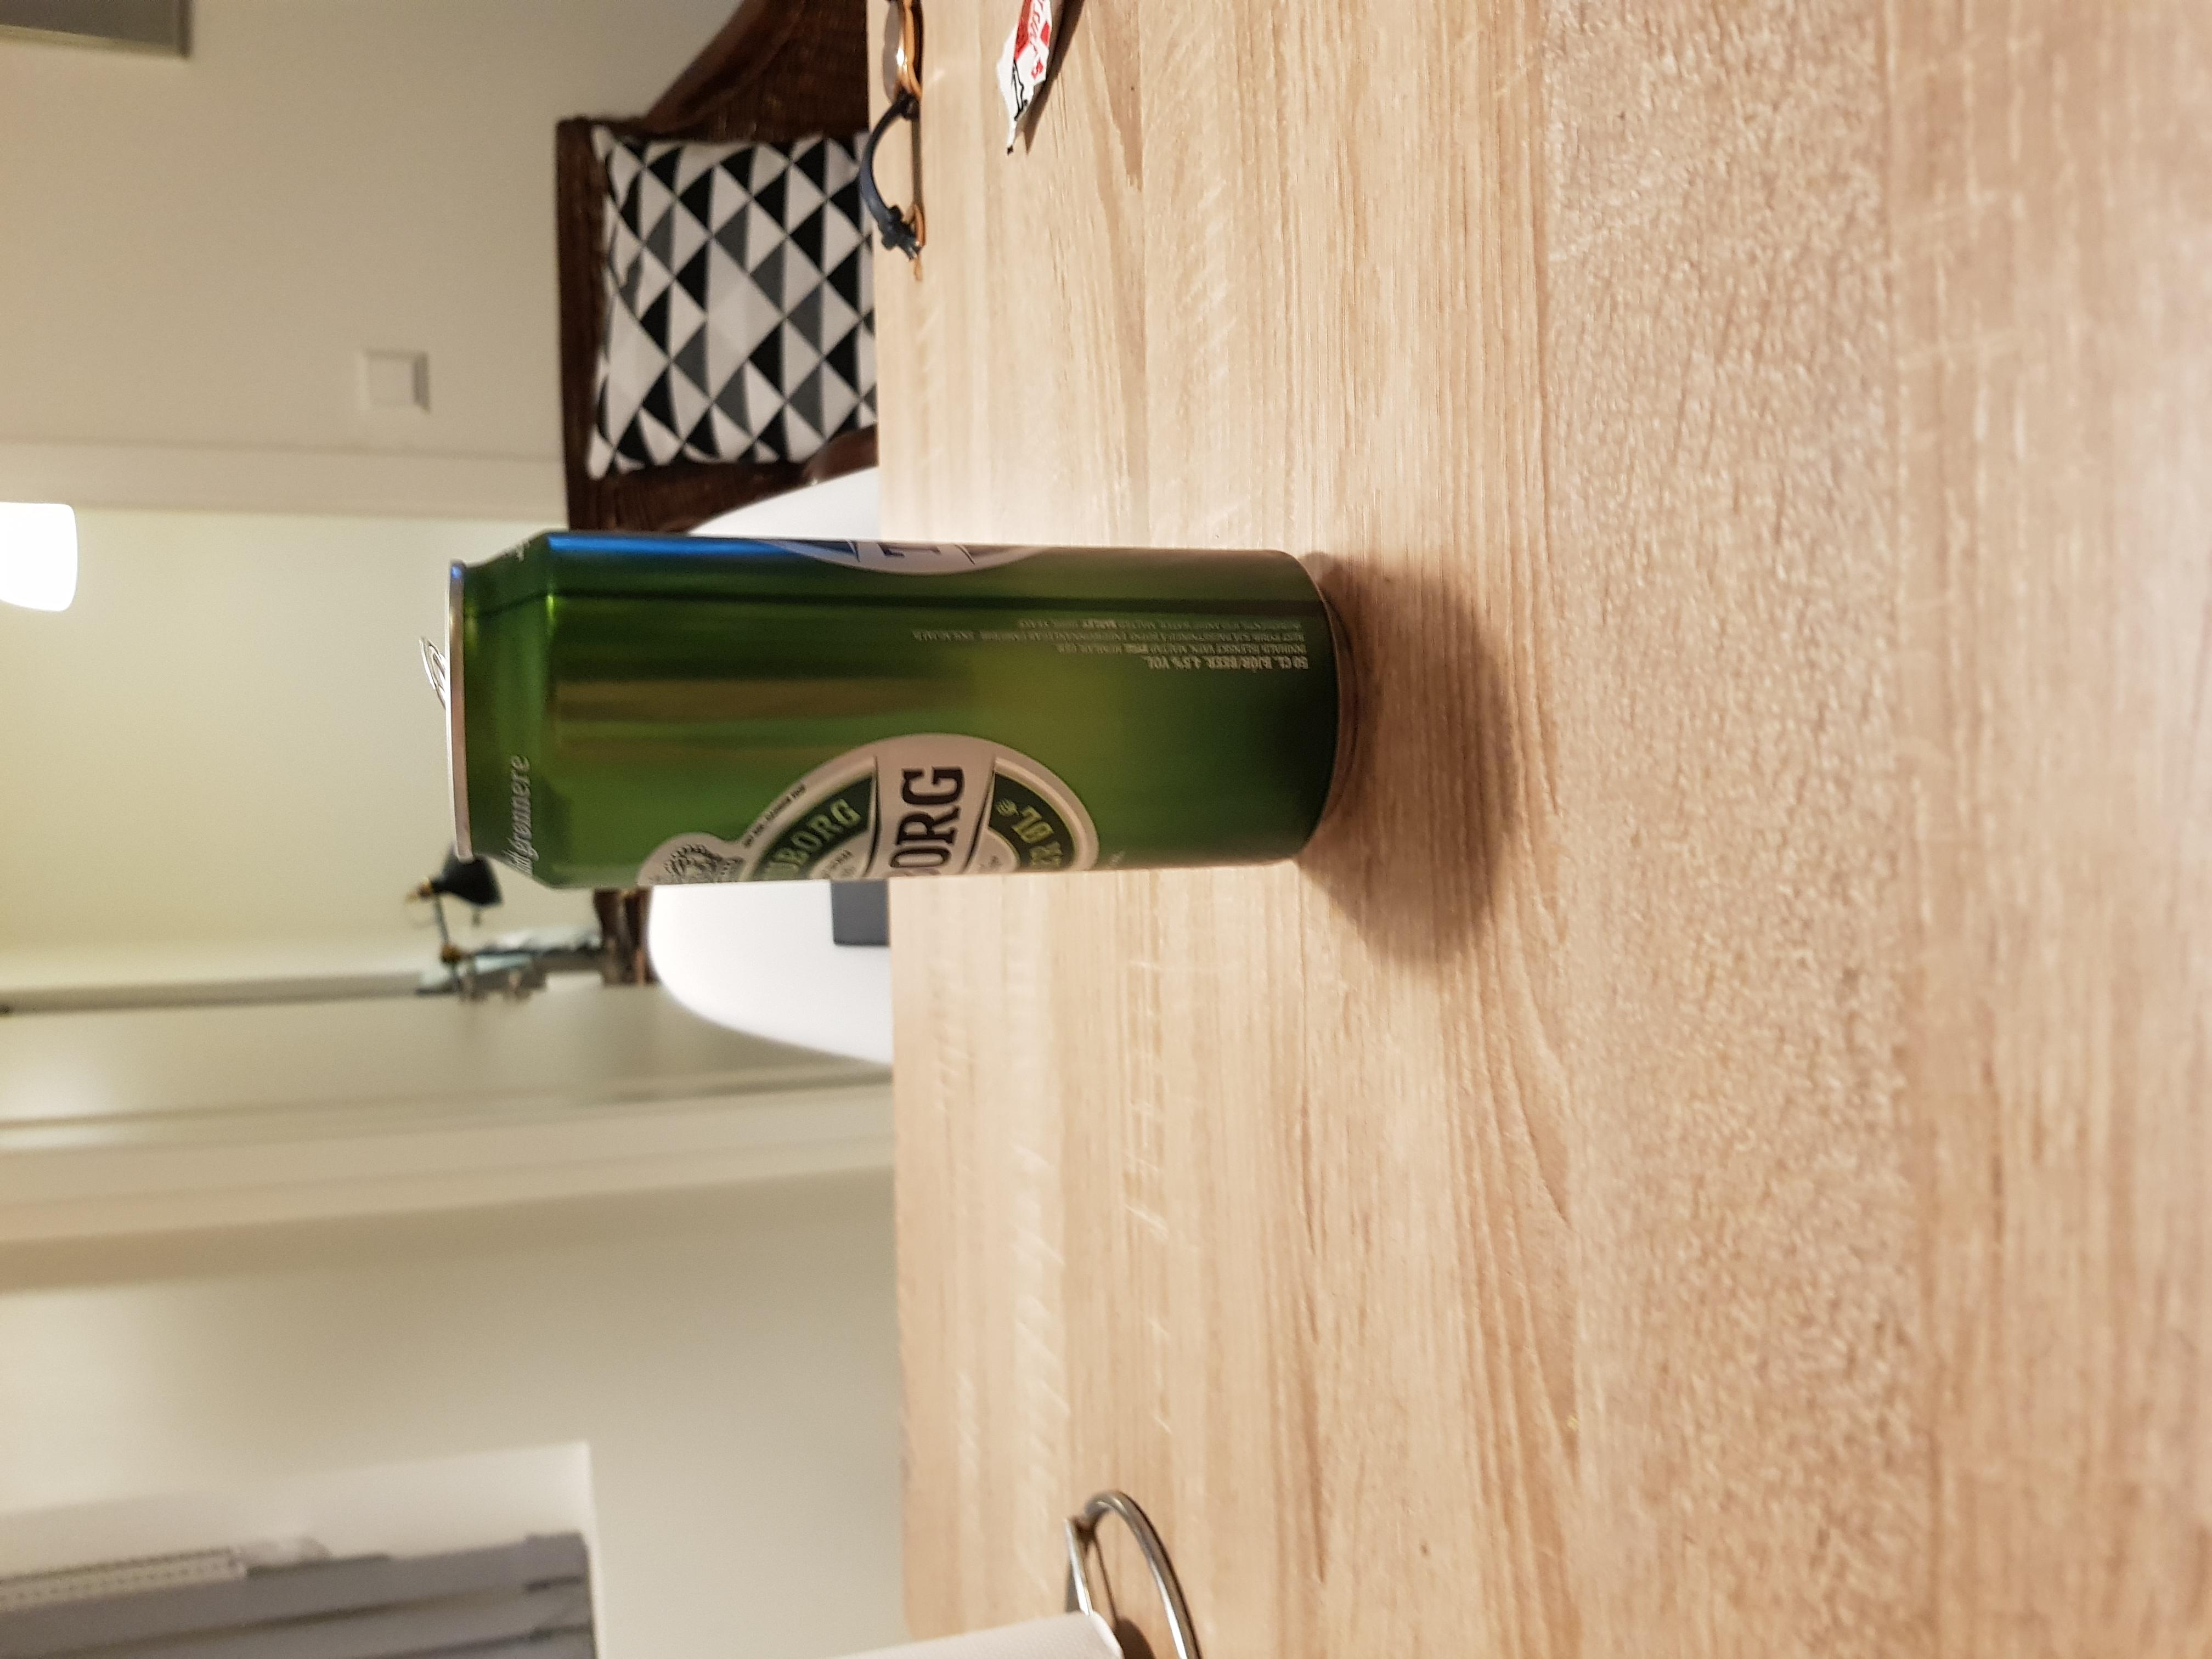can: (439, 528, 1390, 892)
